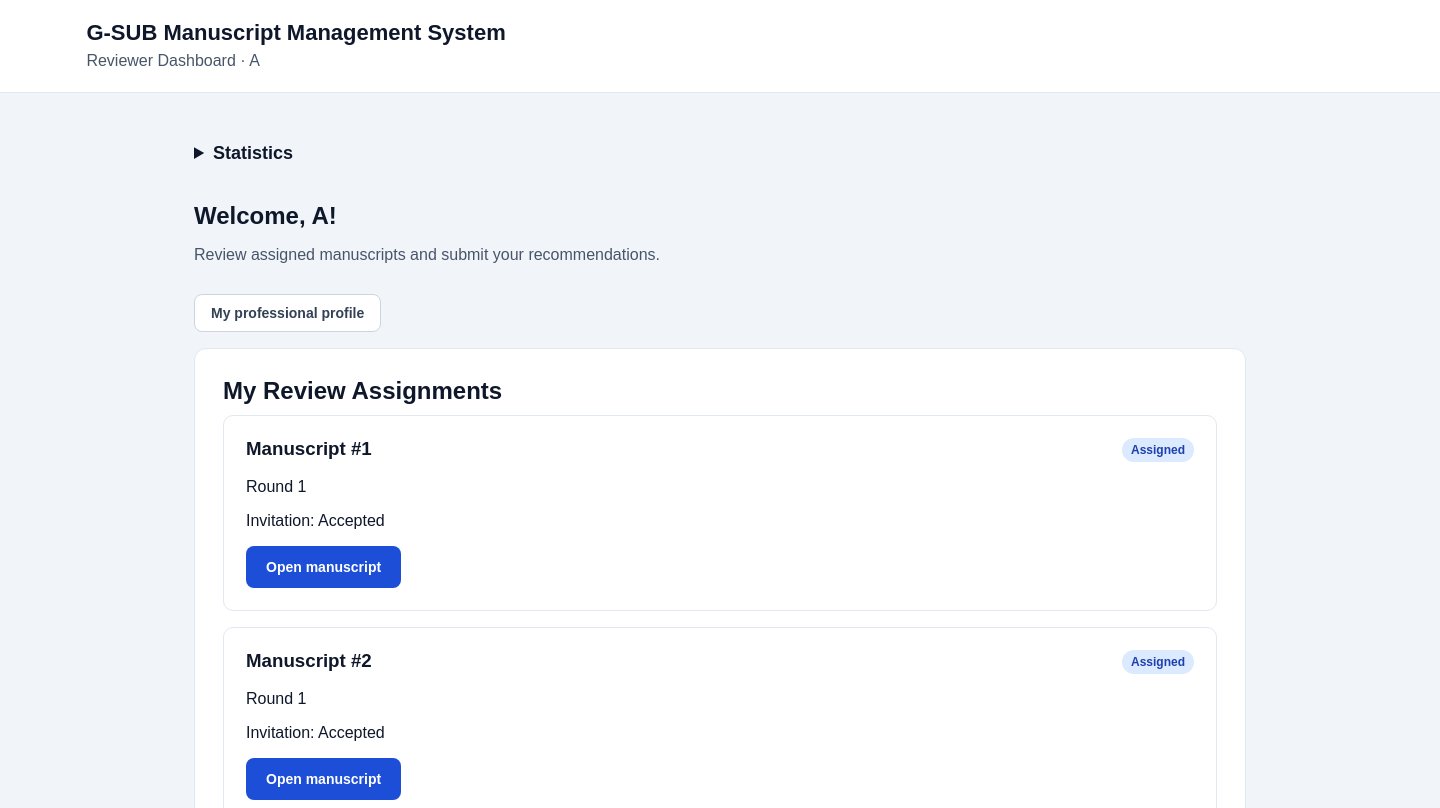
Scenario: does not leak a URL when create-throws occurs before creation completes
Click the button "Open manuscript" below "Manuscript #1".
click(324, 567)  # box [246, 546, 401, 588]
(page scrolled)
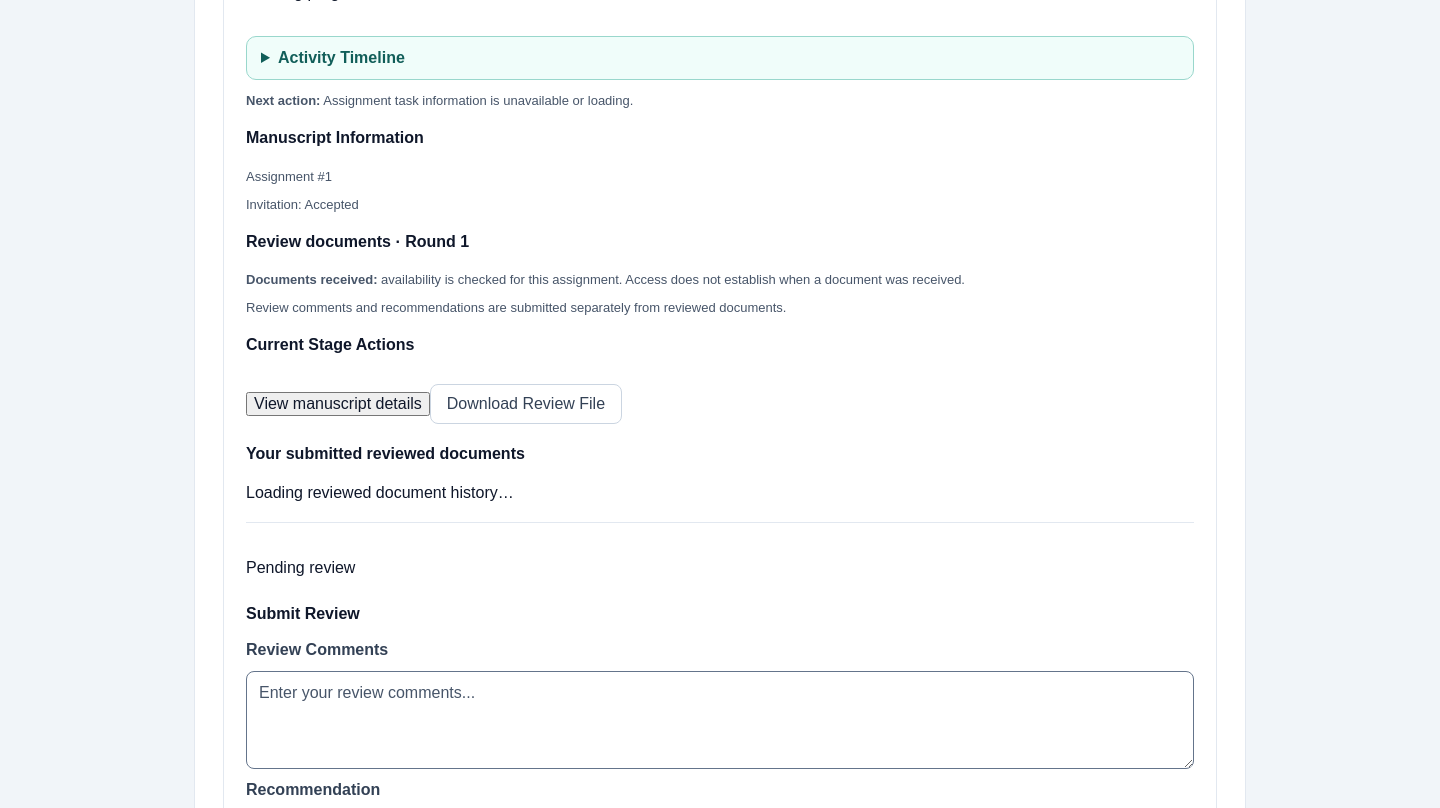
Click the button "Download Review File".
click(526, 404)  # box [430, 384, 622, 424]
(page scrolled)
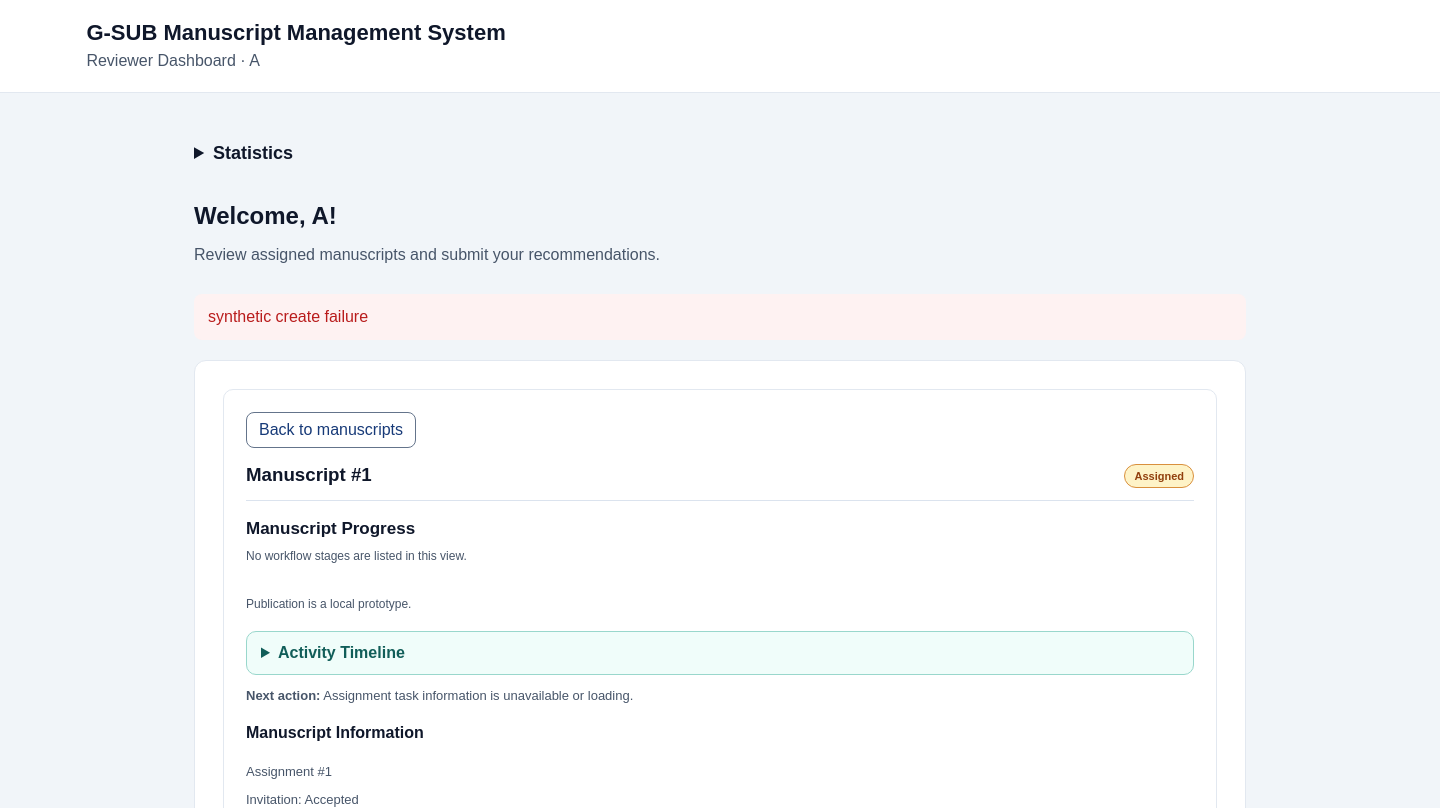
Result: the message "synthetic create failure" is shown at [194, 294, 1246, 340]
